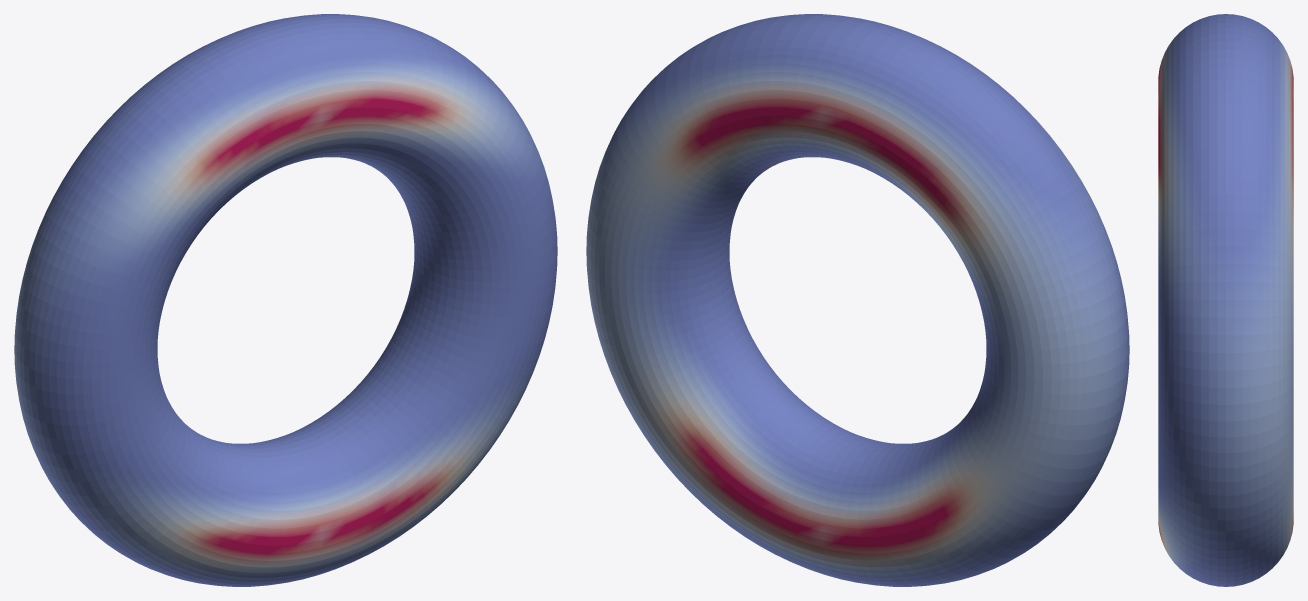
The picture shows the model from 3 angles, left to right: view 1: azimuth 30°, elevation 25°; view 2: azimuth 150°, elevation 25°; view 3: azimuth 270°, elevation 25°; orthographic projection. The views are drawn at different scales.
Parts seen in each view (by area): view 1: world; view 2: world; view 3: world.
Part boxes in pixels (box(x1,y1,x2,y2)): world: box(14, 14, 557, 586); world: box(586, 14, 1129, 586); world: box(1158, 14, 1293, 586).
Bounding box in the file's own units: 17.47 × 17.47 × 4.13.
